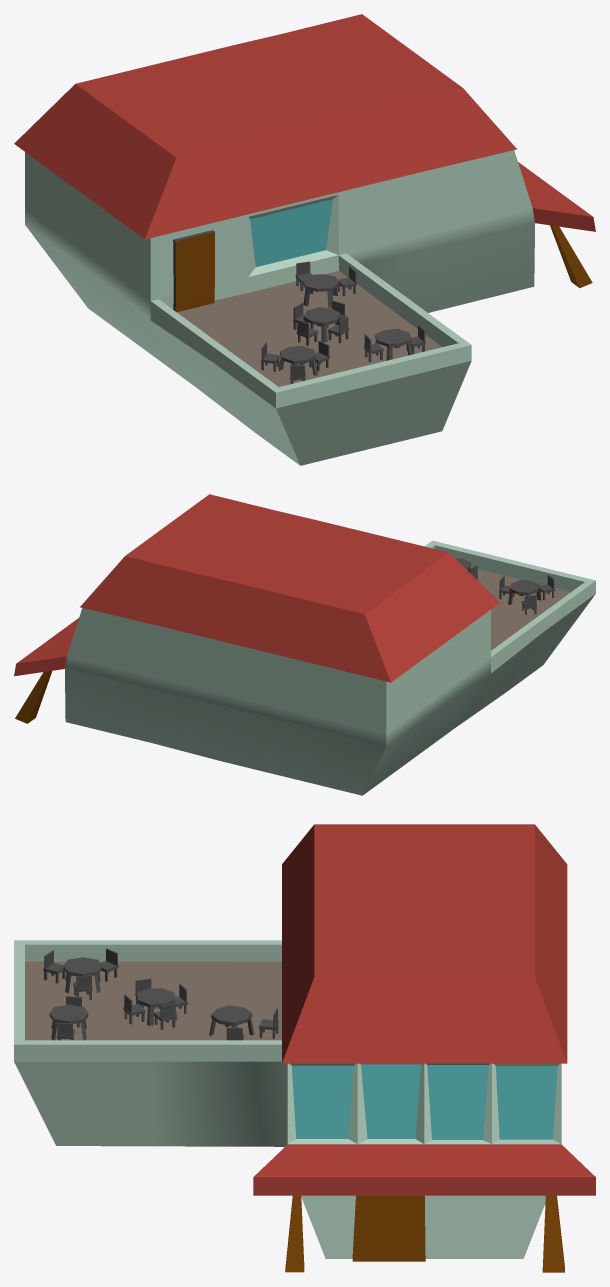
File: smallRestaurant6.fbx
The picture shows the model from 3 angles, top to bottom: view 1: azimuth 30°, elevation 25°; view 2: azimuth 150°, elevation 25°; view 3: azimuth 270°, elevation 25°; orthographic projection. The views are drawn at different scales.
Visible parts, largest first — view 1: pCylinder6; view 2: pCylinder6; view 3: pCylinder6.
Boxes of the visible parts, left/top/right/bottom form: pCylinder6: left=14, top=14, right=595, bottom=465; pCylinder6: left=14, top=494, right=595, bottom=795; pCylinder6: left=14, top=824, right=595, bottom=1272.
Size of the model in its own units: 315 by 149 by 322.
